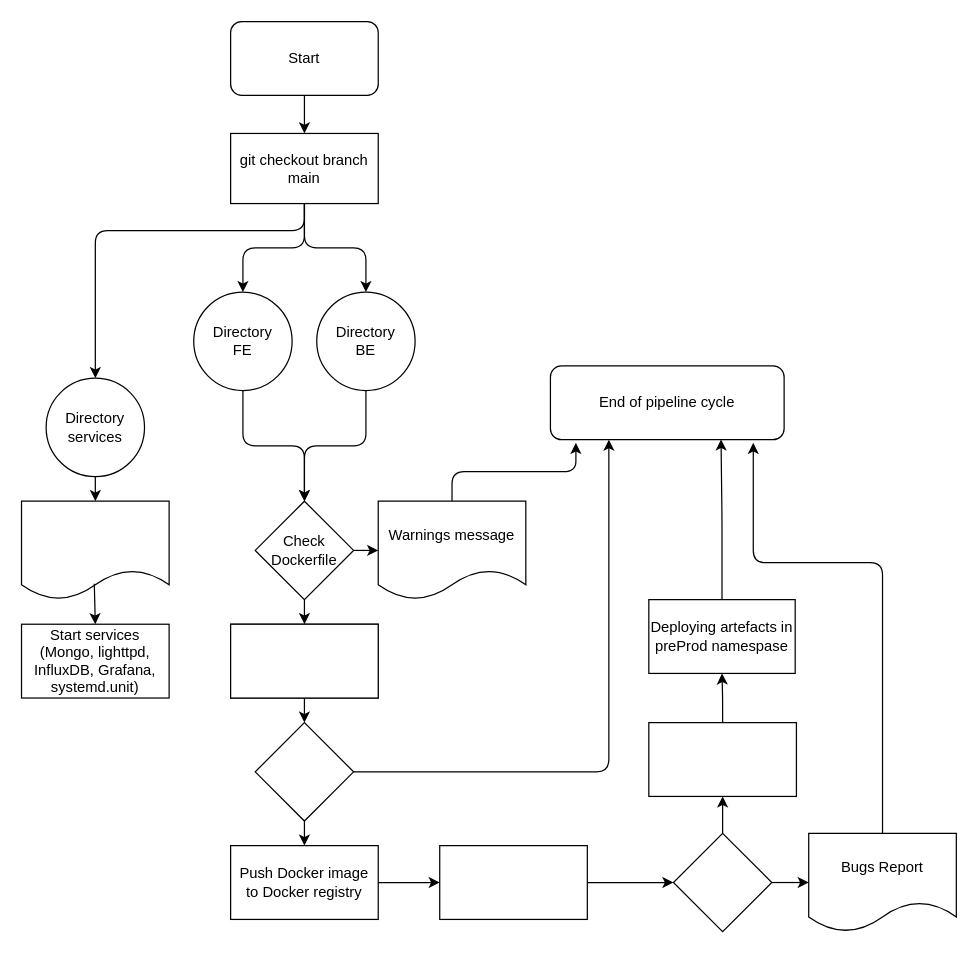
The diagram is 978 pixels wide and 953 high, and some of its shapes have lost their labels. Here are the shapes that lost their labels. From the top down, the box of each, then its label:
(20, 500, 169, 600): config & credential
(229, 623, 378, 698): Build Docker Image
(254, 721, 354, 821): Check Docker container
(648, 721, 796, 796): Cleanup QA env
(438, 844, 587, 919): Deploying artefacts in DEV & QA namespaces
(672, 832, 772, 932): QA testing
